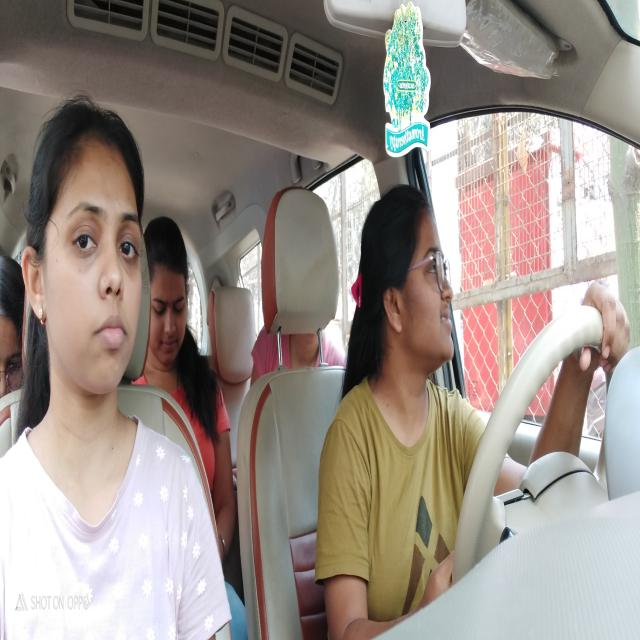LeftRight: (357, 182, 460, 398)
person: (23, 100, 149, 409), (146, 207, 196, 375), (0, 244, 29, 403)
